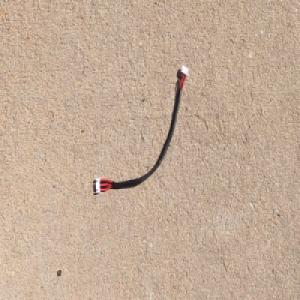Wire: (92, 62, 187, 194)
